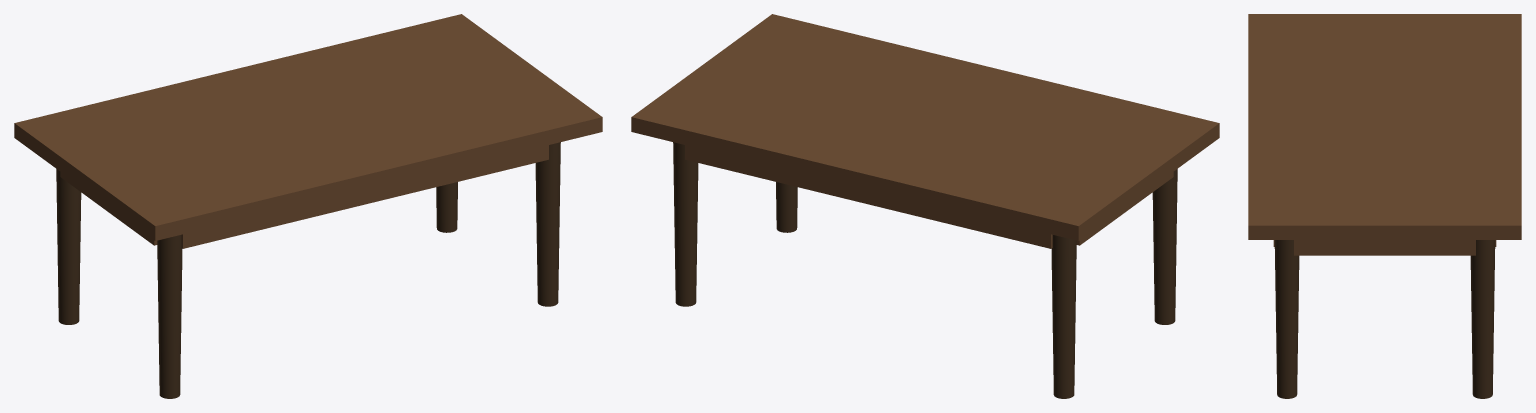
Rendered from coffee_table_walnut.glb.
The picture shows the model from 3 angles, left to right: view 1: azimuth 30°, elevation 25°; view 2: azimuth 150°, elevation 25°; view 3: azimuth 270°, elevation 25°; orthographic projection. The views are drawn at different scales.
Visible parts, largest first — view 1: furniture; view 2: furniture; view 3: furniture.
Boxes of the visible parts, bbox=[...] form: furniture: bbox=[14, 14, 602, 398]; furniture: bbox=[631, 14, 1219, 398]; furniture: bbox=[1248, 14, 1521, 398].
Bounding box in the file's own units: 1.1 × 0.45 × 0.6.
